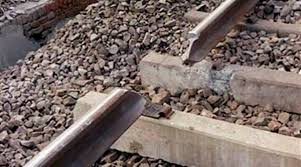crack: (106, 11, 221, 129)
